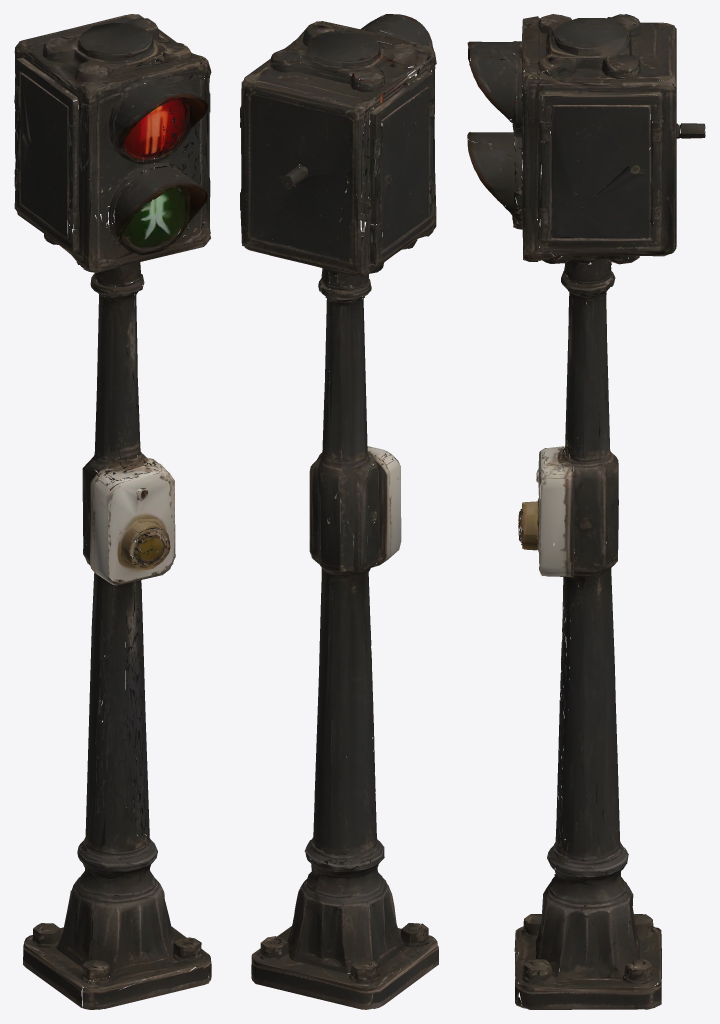
File: ch03_crosswalk_signal.glb
The picture shows the model from 3 angles, left to right: view 1: azimuth 30°, elevation 25°; view 2: azimuth 150°, elevation 25°; view 3: azimuth 270°, elevation 25°; orthographic projection. The views are drawn at different scales.
Parts seen in each view (by area): view 1: material; view 2: material; view 3: material.
Boxes of the visible parts, box(x1,y1,x2,y2) form: material: box(14, 14, 211, 1009); material: box(240, 14, 438, 1009); material: box(467, 14, 705, 1009).
Bounding box in the file's own units: 0.1854 × 1.18 × 0.2694.
1 material, 1 textured.
